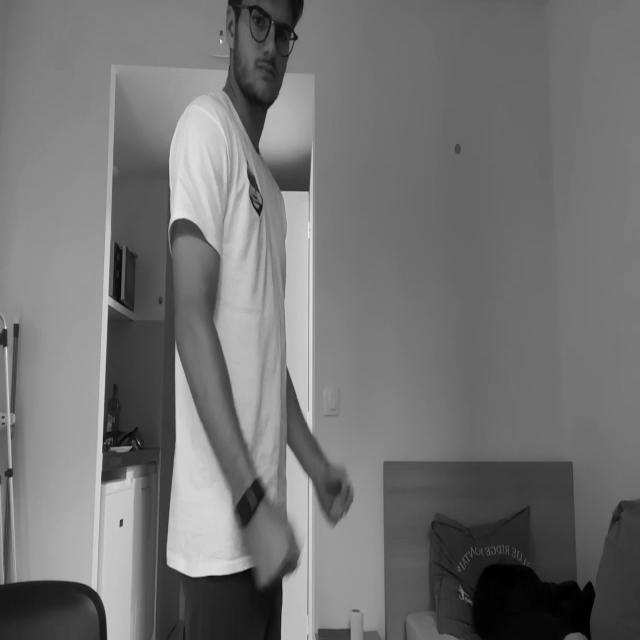elbow: (172, 301, 213, 364)
hand: (246, 493, 298, 589), (316, 466, 352, 523)
shoulder: (170, 105, 228, 202)
